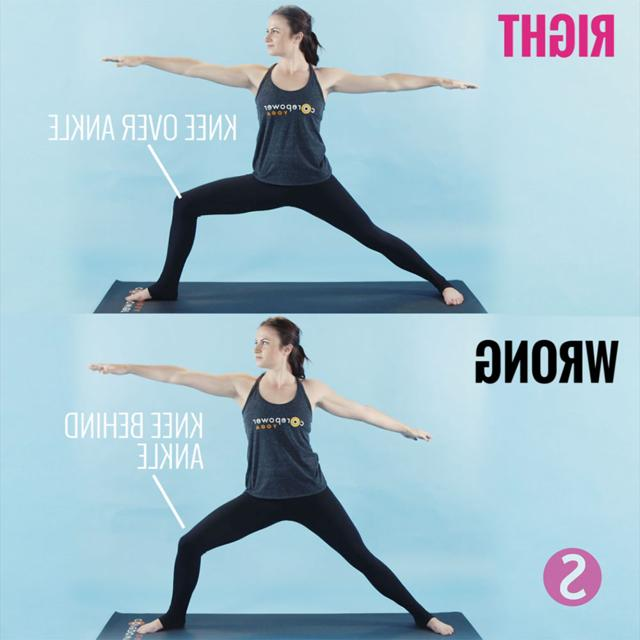Warrior_II: (91, 319, 461, 638), (110, 1, 485, 309)
